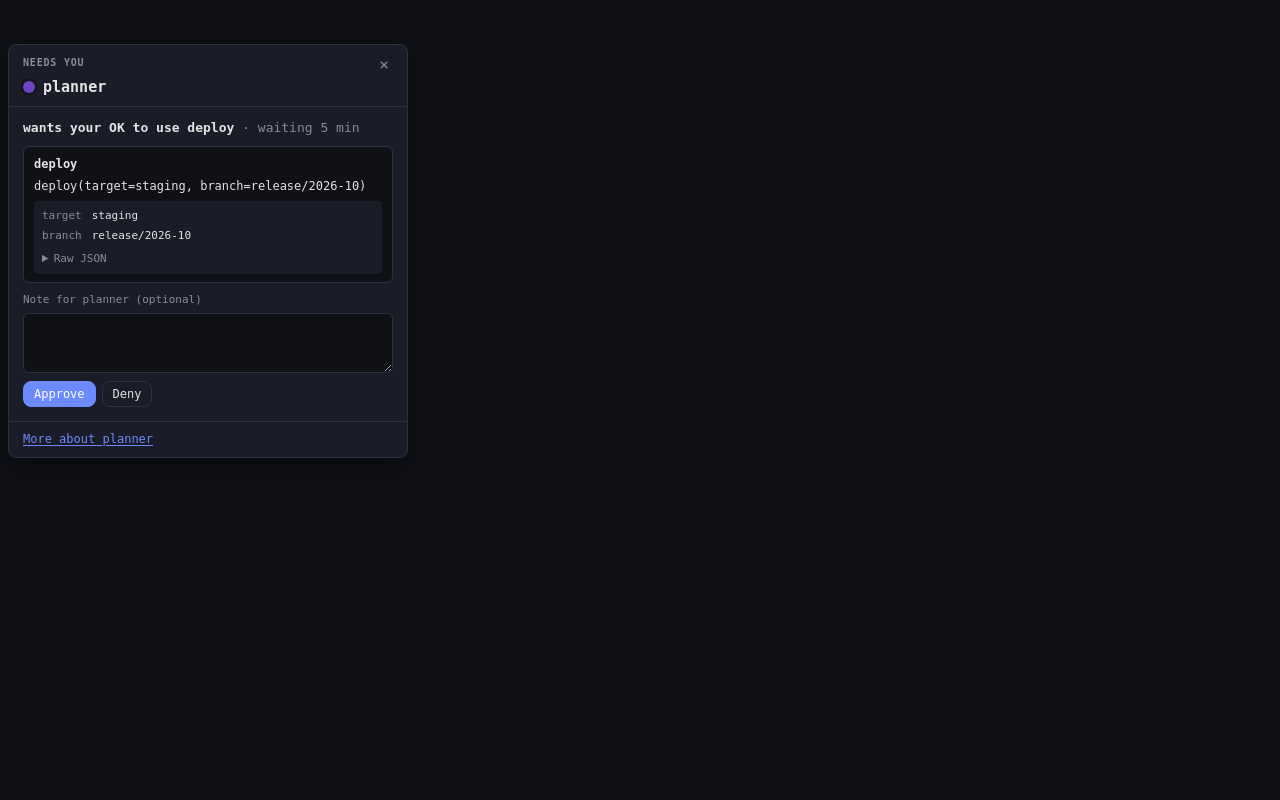
it: an approval, in the world › says when it was answered somewhere else first
Click the button "Approve" at (59, 394), box [23,380,96,406]
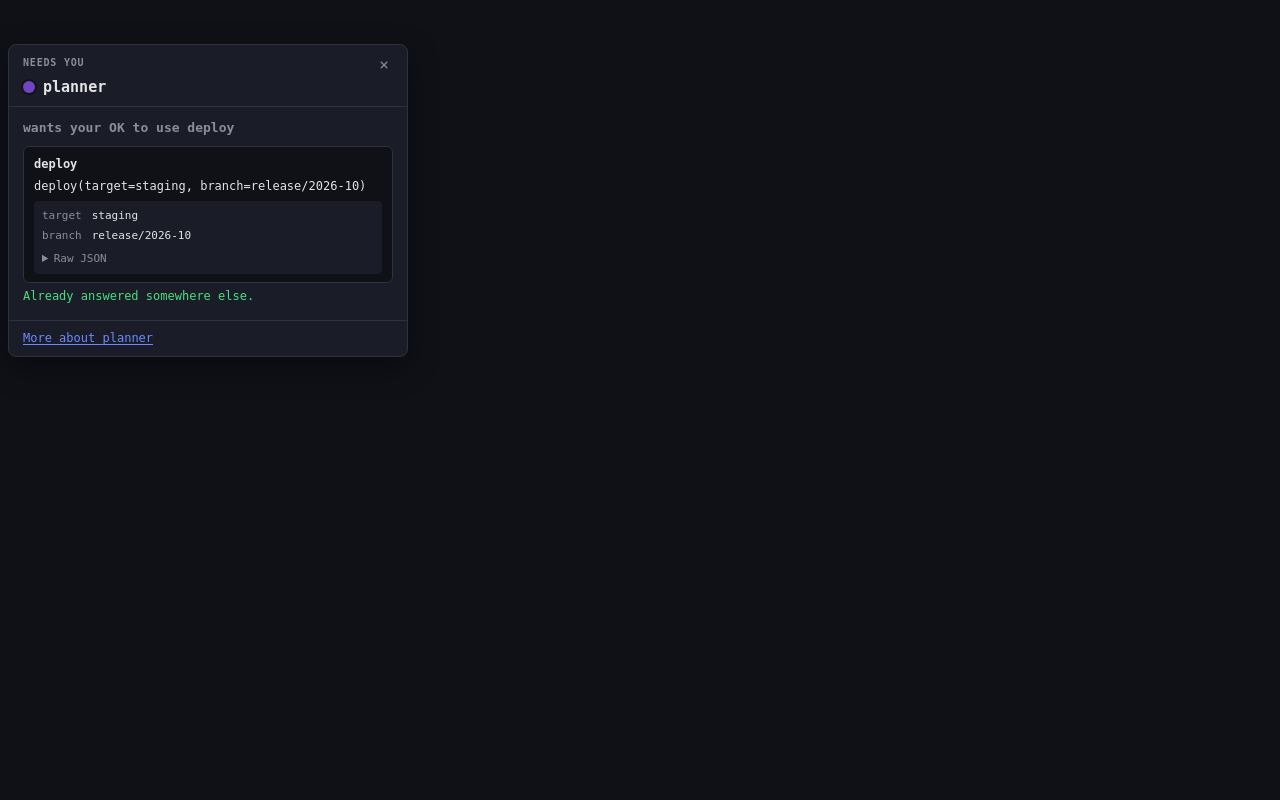
Expected: the text "Already answered somewhere else." is shown, [23,289,254,303]
